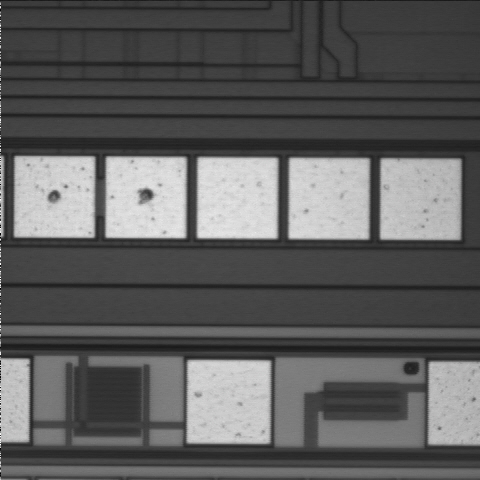pad: (187, 360, 270, 443), (106, 157, 186, 238), (289, 158, 369, 239), (197, 158, 277, 238), (15, 157, 94, 237), (381, 159, 460, 239)
